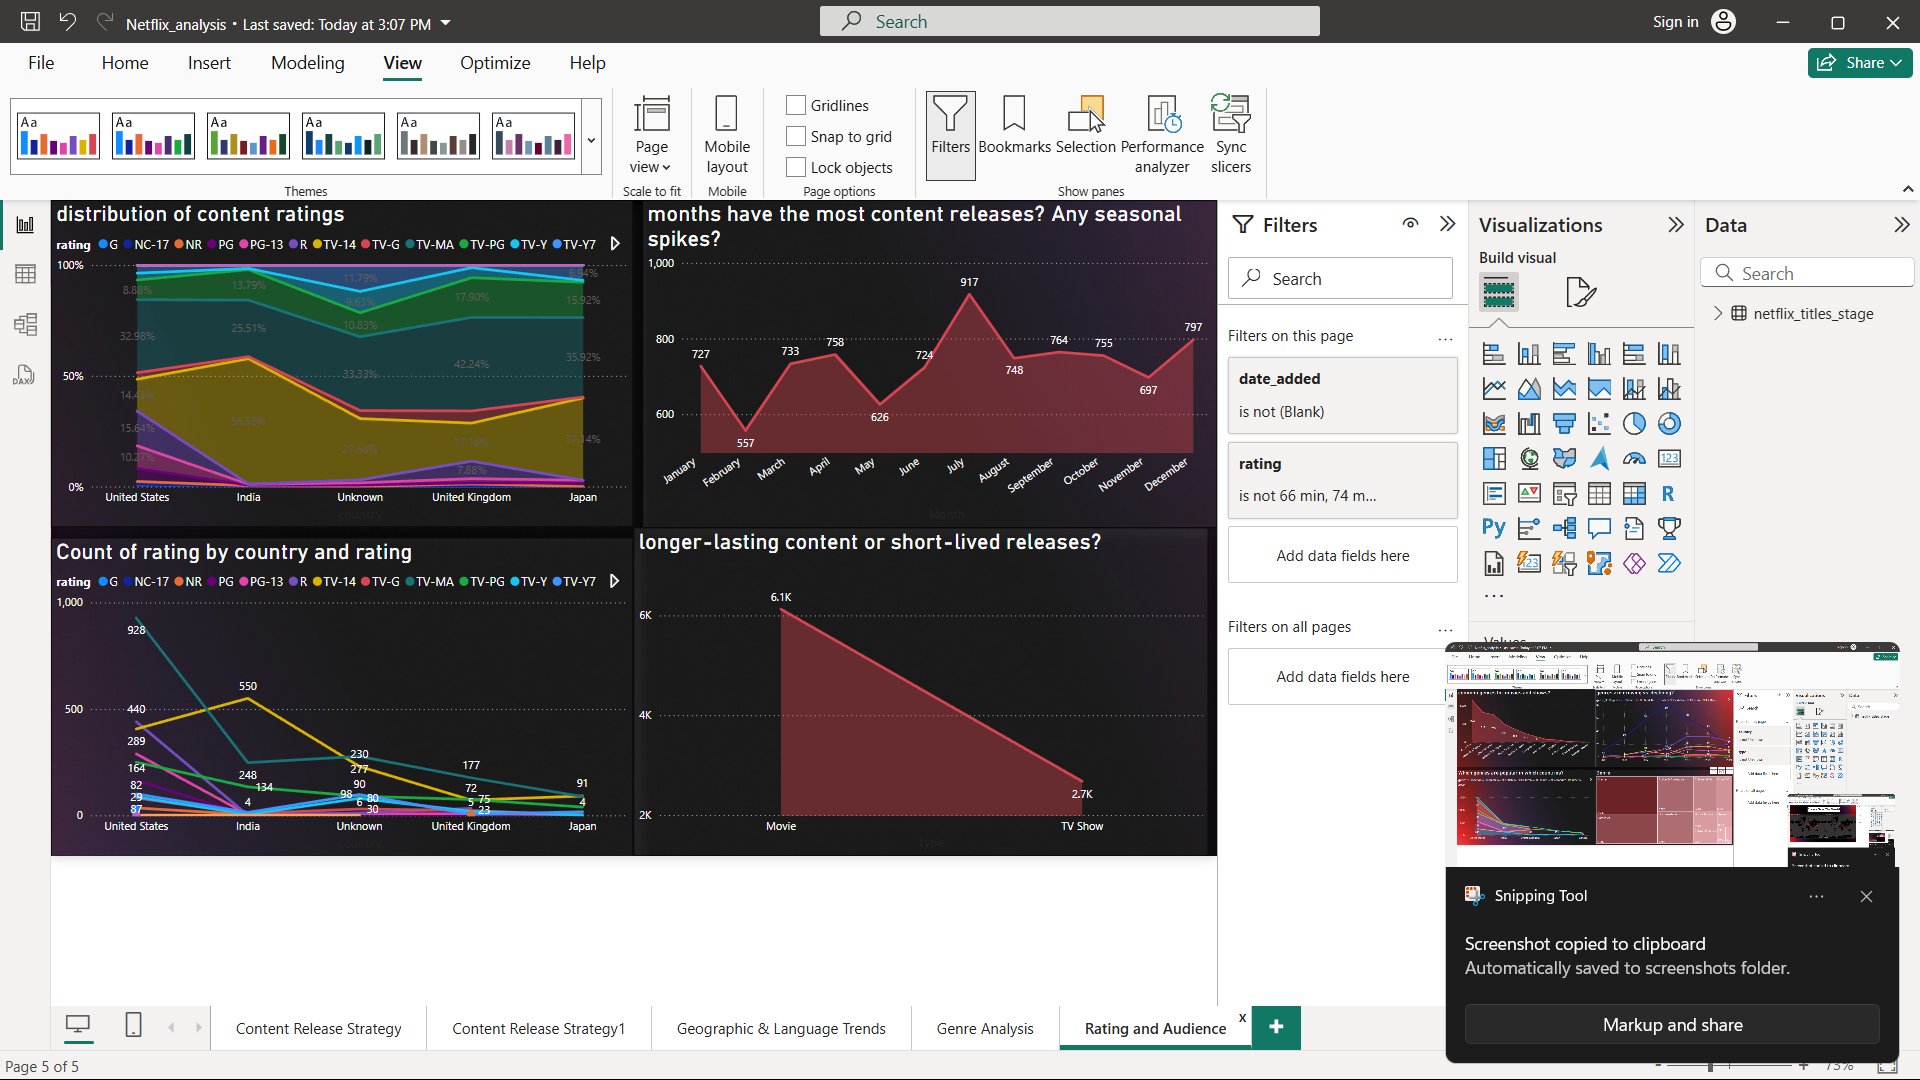

What the dashboard file says about the page in this screenshot:
{"tool":"powerbi","page":{"name":"Rating and Audience","canvas":[1280,720],"ordinal":4},"visuals":[{"type":"hundredPercentStackedAreaChart","title":"distribution of content ratings","fields":{"Category":["netflix_titles_stage.country"],"Y":["CountNonNull(netflix_titles_stage.rating)"],"Series":["netflix_titles_stage.rating"]},"box":[0,0,639.5,359.5],"z":0},{"type":"lineChart","fields":{"Y":["CountNonNull(netflix_titles_stage.rating)"],"Category":["netflix_titles_stage.country"],"Series":["netflix_titles_stage.rating"]},"box":[0,370,639,350],"z":1000},{"type":"areaChart","title":"months have the most content releases? Any seasonal spikes?","fields":{"Category":["netflix_titles_stage.date_added.Variation.Date Hierarchy.Month"],"Y":["CountNonNull(netflix_titles_stage.type)"]},"box":[649,0,631,360],"z":2000},{"type":"areaChart","title":"longer-lasting content or short-lived releases?","fields":{"Category":["netflix_titles_stage.type"],"Y":["CountNonNull(netflix_titles_stage.duration)"]},"box":[639.5,359.5,631.2,360.9],"z":3000}]}

Visuals, with their boxes on the page's 1280x720 design canvas (x1, y1, x2, y2). These are canvas units, not pixel positions in the 1920x1080 screenshot, which may show the page scaled, cropped or inside an application window:
"distribution of content ratings" hundredPercentStackedAreaChart: x1=0 y1=0 x2=640 y2=360
lineChart - CountNonNull(netflix_titles_stage.rating) x netflix_titles_stage.country: x1=0 y1=370 x2=639 y2=720
"months have the most content releases? Any seasonal spikes?" areaChart: x1=649 y1=0 x2=1280 y2=360
"longer-lasting content or short-lived releases?" areaChart: x1=640 y1=360 x2=1271 y2=720
